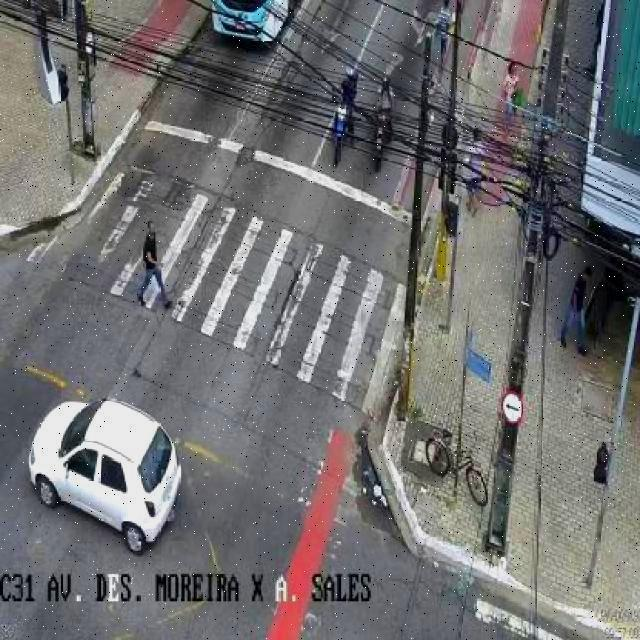Bus: (206, 0, 300, 49)
Car: (27, 397, 183, 556)
Cycle: (424, 426, 492, 508), (331, 104, 354, 164)
